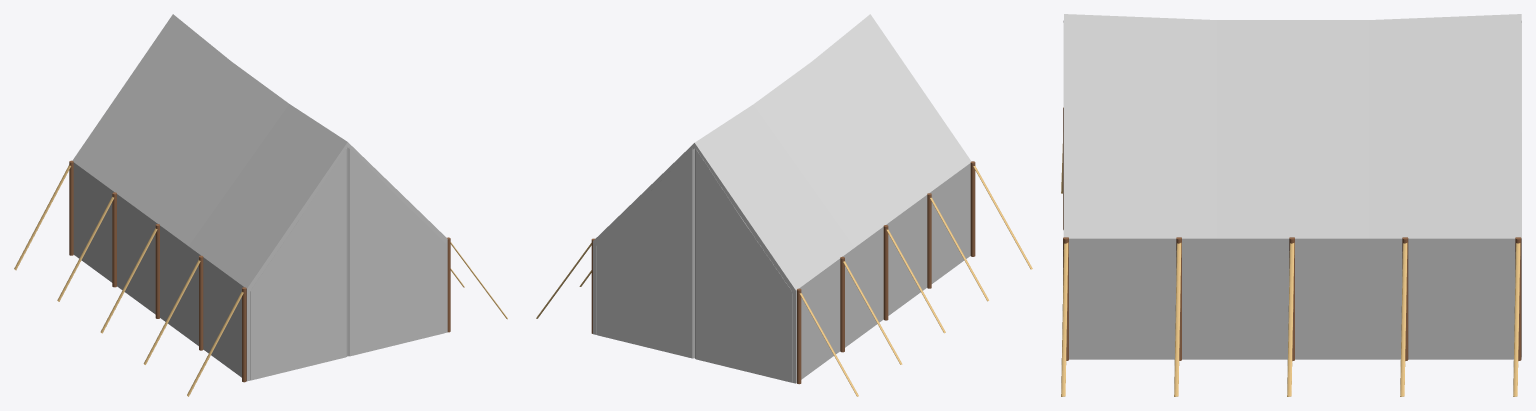
The model's file is command-tent.fbx.
The picture shows the model from 3 angles, left to right: view 1: azimuth 30°, elevation 25°; view 2: azimuth 150°, elevation 25°; view 3: azimuth 270°, elevation 25°; orthographic projection. The views are drawn at different scales.
Parts seen in each view (by area): view 1: command-tent; view 2: command-tent; view 3: command-tent.
Boxes of the visible parts, x1,y1,x2,y2 form: command-tent: (14, 14, 507, 396); command-tent: (536, 14, 1032, 396); command-tent: (1061, 14, 1521, 396).
Bounding box in the file's own units: 537 × 345 × 511.
